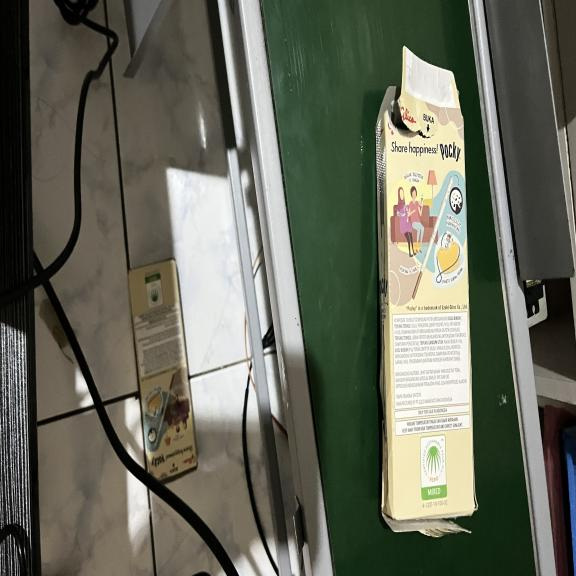Kertas: (380, 92, 479, 520)
